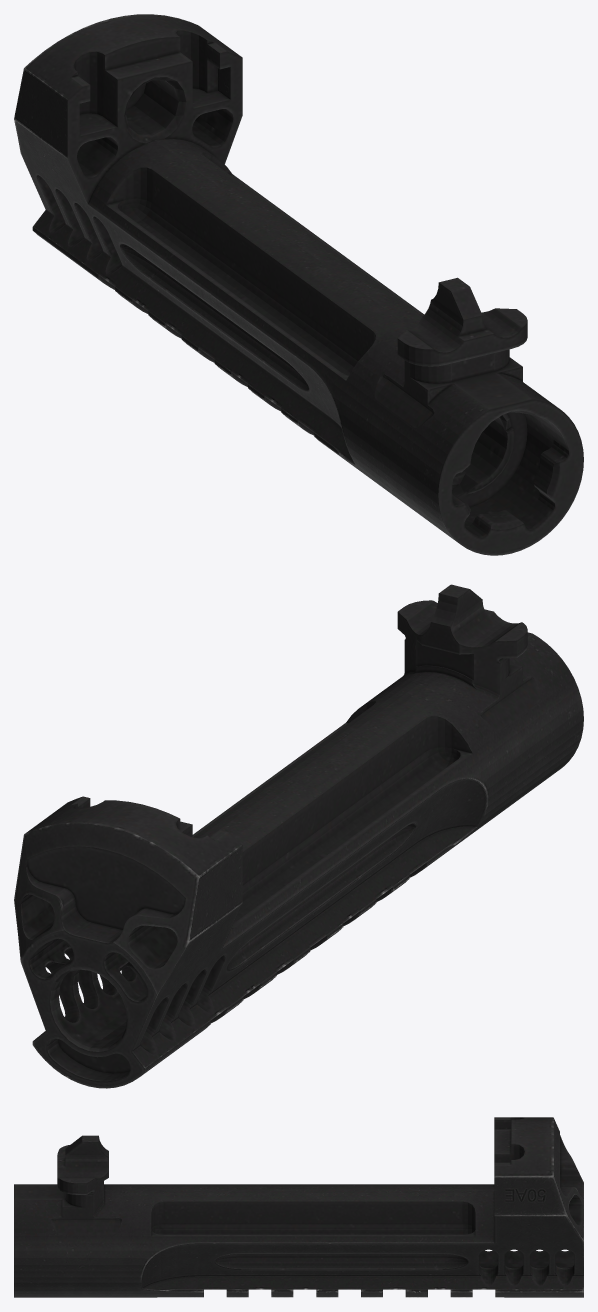
The picture shows the model from 3 angles, top to bottom: view 1: azimuth 30°, elevation 25°; view 2: azimuth 150°, elevation 25°; view 3: azimuth 270°, elevation 25°; orthographic projection. The views are drawn at different scales.
Parts seen in each view (by area): view 1: TW_669fa4ba1bd4416eaa09b3c6_PZ_Import; view 2: TW_669fa4ba1bd4416eaa09b3c6_PZ_Import; view 3: TW_669fa4ba1bd4416eaa09b3c6_PZ_Import.
Boxes of the visible parts, bbox=[...] form: TW_669fa4ba1bd4416eaa09b3c6_PZ_Import: bbox=[14, 14, 583, 555]; TW_669fa4ba1bd4416eaa09b3c6_PZ_Import: bbox=[14, 584, 583, 1088]; TW_669fa4ba1bd4416eaa09b3c6_PZ_Import: bbox=[14, 1117, 583, 1297].
Bounding box in the file's own units: 0.0191 × 0.0798 × 0.0253.
Materials: 1 (1 with a texture image).
